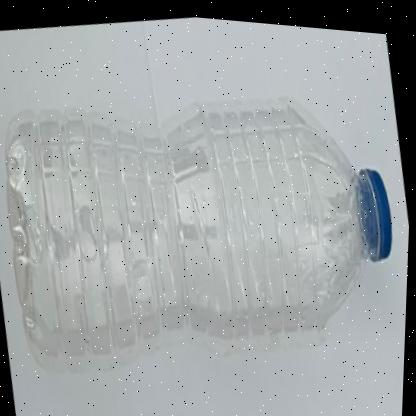bottle cap: (258, 70, 415, 358)
